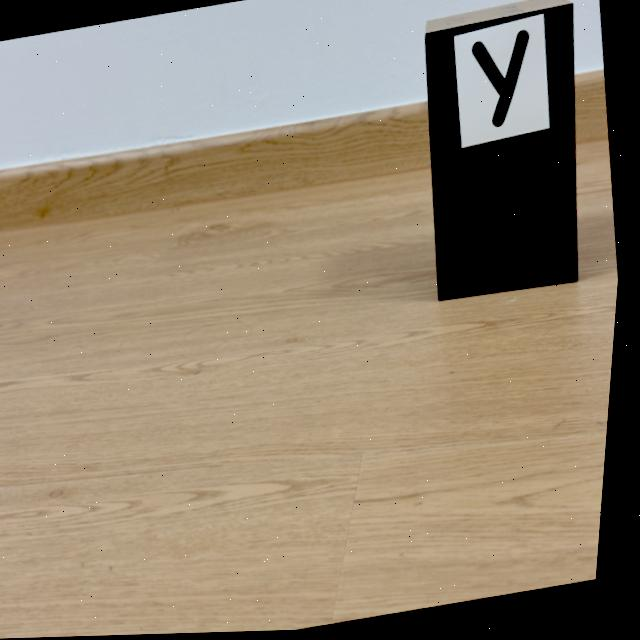Y: (473, 33, 530, 131)
